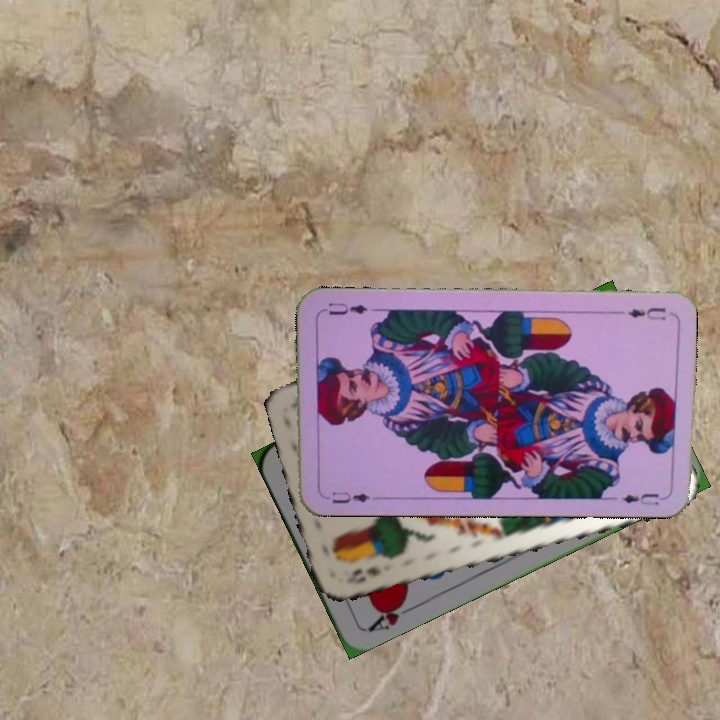EK: (343, 562, 384, 587)
EU: (611, 303, 668, 323), (320, 487, 379, 506)
HA: (364, 592, 418, 635)
